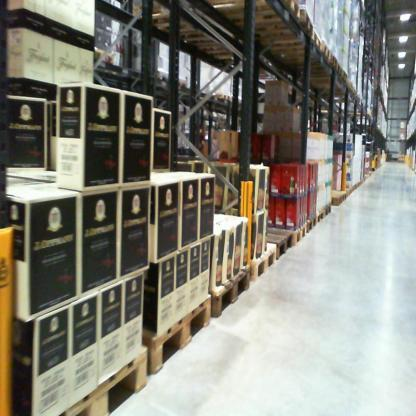pallets: (205, 203, 334, 320), (49, 347, 149, 414), (142, 297, 212, 374)
